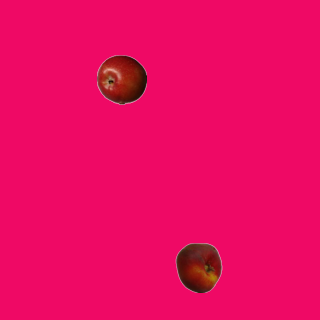Apple Braeburn: (96, 54, 146, 104)
Nectarine Flat: (173, 242, 223, 292)
